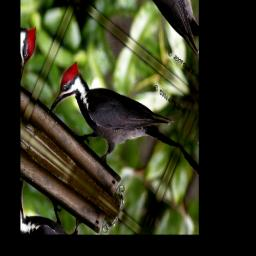Woodpecker: (46, 40, 186, 206)
